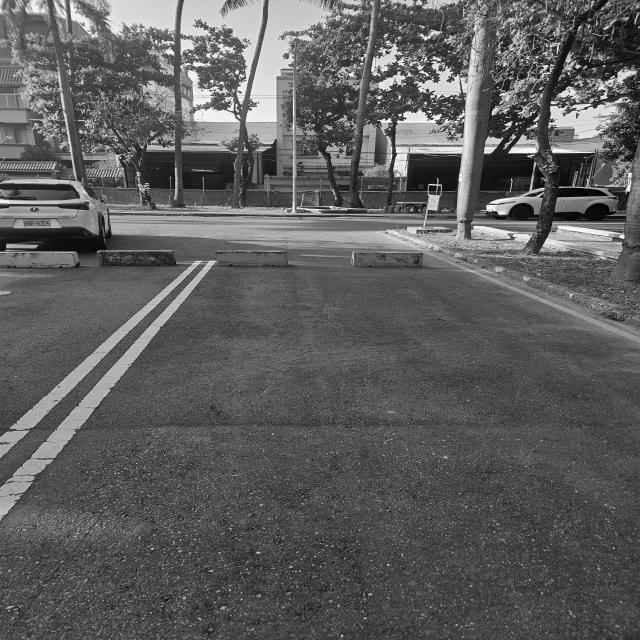Road-Object: (0, 214, 640, 640)
floor: (97, 247, 178, 268), (0, 251, 84, 269), (346, 251, 427, 269), (215, 249, 291, 267)
